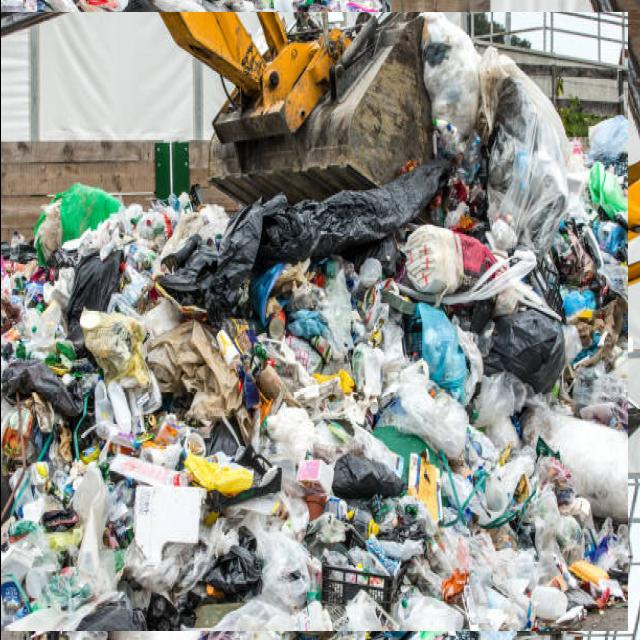garbage: (0, 7, 624, 635)
